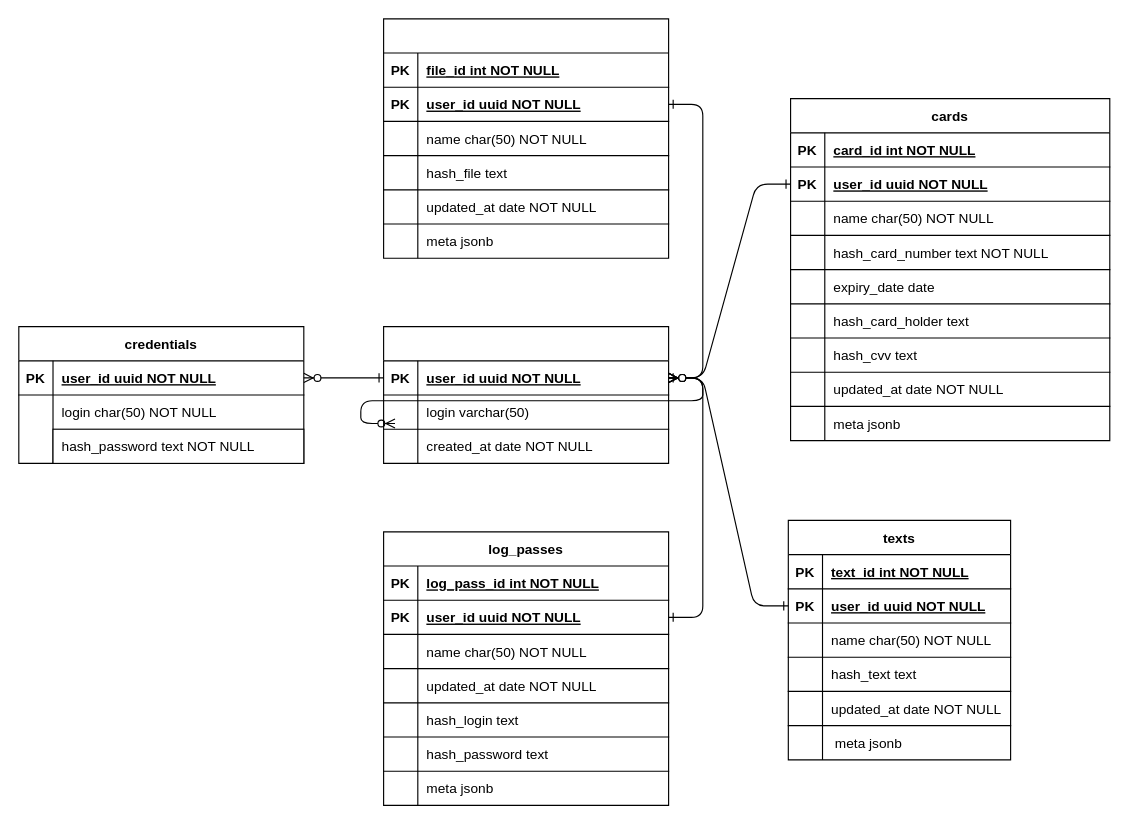
Image size: 1129x824. Some labels were removed from this diagram. Each missing label, with the box of its shape:
binary_files: (382, 18, 669, 258)
users: (382, 325, 669, 463)
